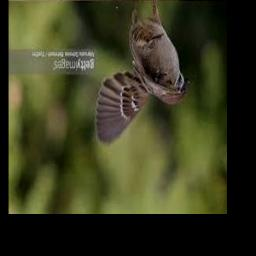Sparrow: (96, 0, 193, 147)
